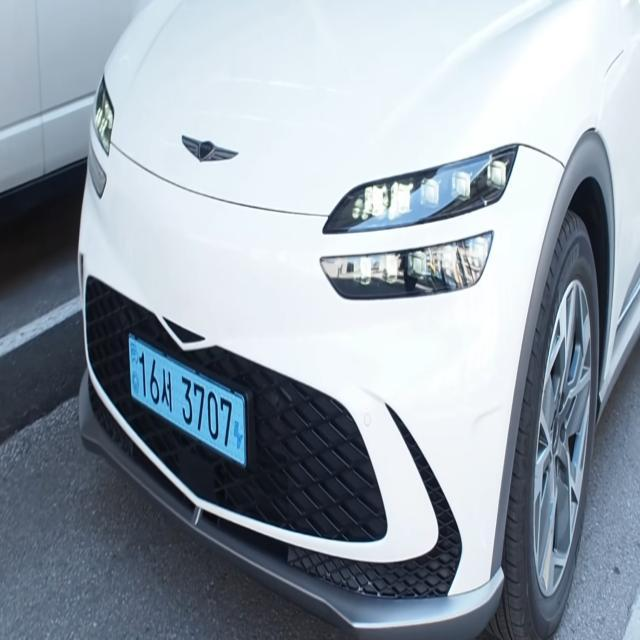car: (115, 317, 268, 486)
carev: (232, 388, 250, 469), (126, 330, 140, 403)
